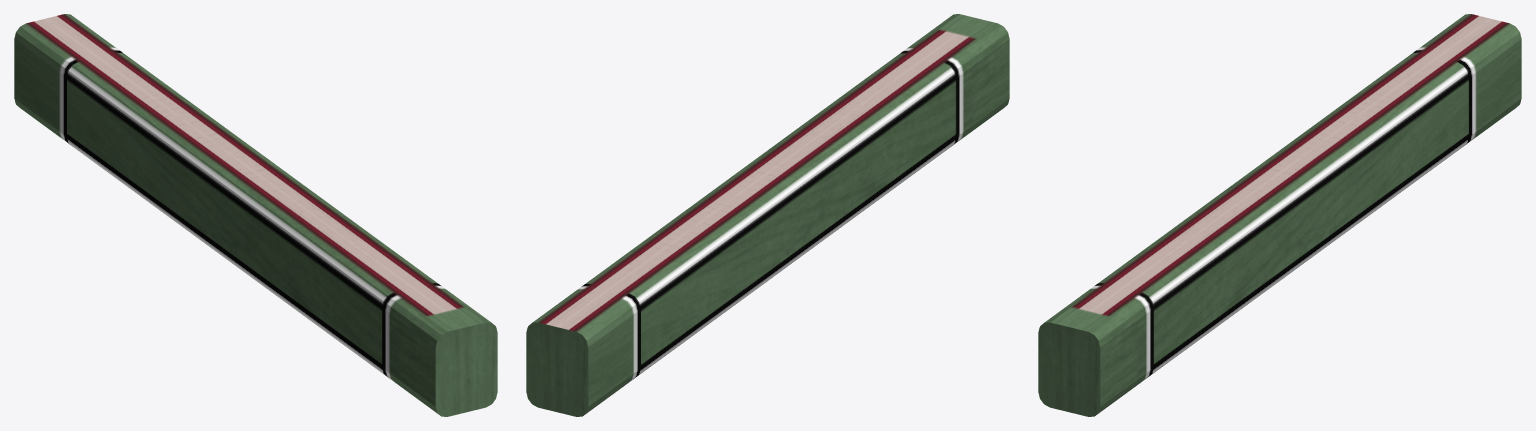
The model's file is SM_SJJ_HG_ChangBang01C.fbx.
3 views of the same model, side by side, from view 1: azimuth 30°, elevation 25°; view 2: azimuth 150°, elevation 25°; view 3: azimuth 330°, elevation 25° (orthographic).
Parts seen in each view (by area): view 1: SM_SJJ_HG_ChangBang01C; view 2: SM_SJJ_HG_ChangBang01C; view 3: SM_SJJ_HG_ChangBang01C.
Part boxes in pixels (x1,y1,x2,y2): SM_SJJ_HG_ChangBang01C: (14, 14, 497, 416); SM_SJJ_HG_ChangBang01C: (526, 14, 1009, 416); SM_SJJ_HG_ChangBang01C: (1038, 14, 1521, 416).
Bounding box in the file's own units: 26.1 × 308 × 34.31.
1 material, 1 textured.
